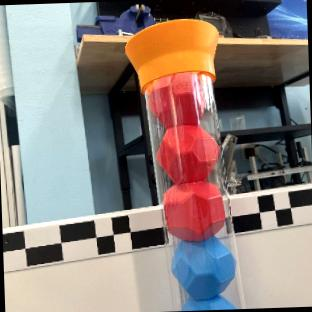Loader: (125, 18, 245, 311)
V5_BLUE: (171, 234, 239, 307), (183, 295, 235, 311)
V5_RED: (147, 70, 213, 130), (162, 180, 225, 242), (157, 125, 218, 183)
